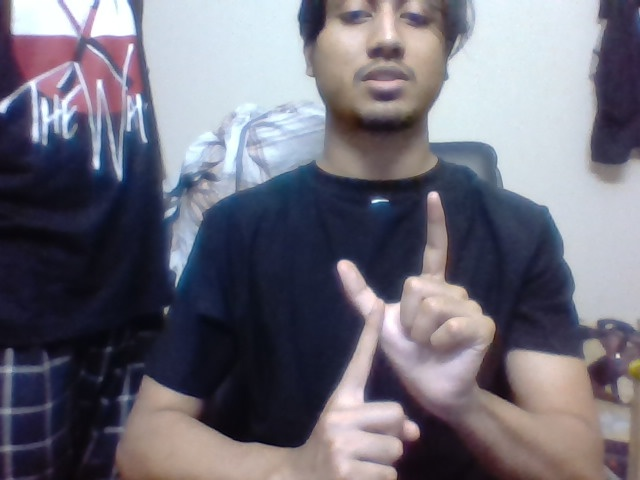Y: (322, 185, 457, 372)
